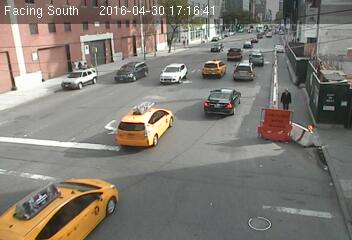neg: (132, 89, 155, 120), (56, 92, 75, 117), (201, 90, 211, 104), (201, 50, 208, 60)
pos: (274, 83, 298, 116), (74, 58, 85, 73), (70, 58, 77, 68)
